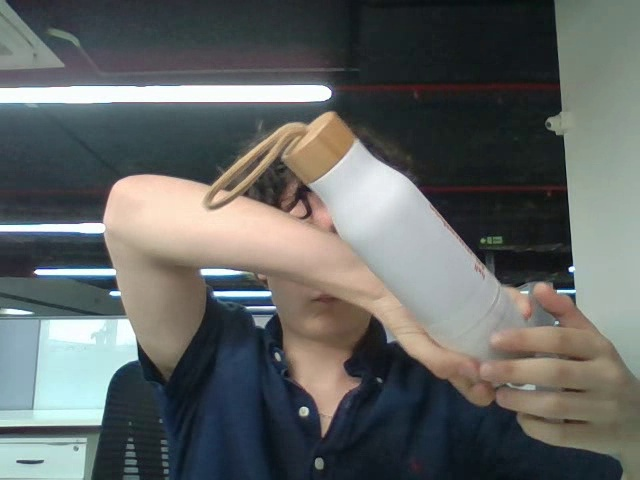cap: (273, 107, 363, 190)
